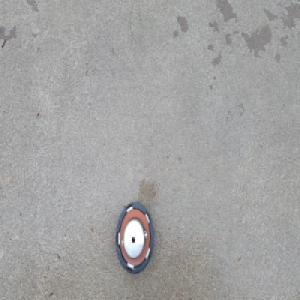FuelCap: (115, 198, 156, 273)
